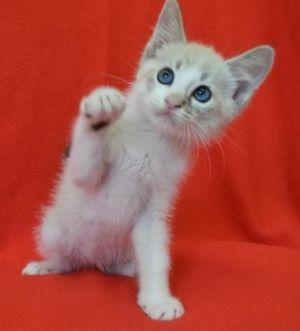siamese: (117, 1, 278, 160)
